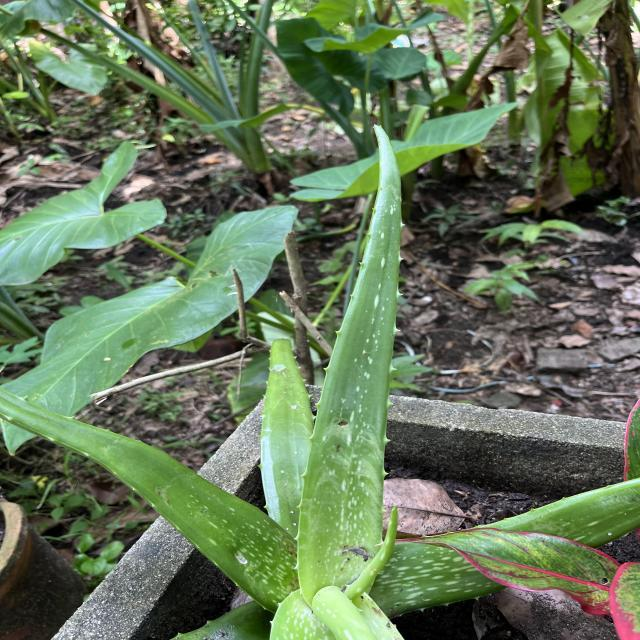Aloe vera: (288, 119, 408, 596)
